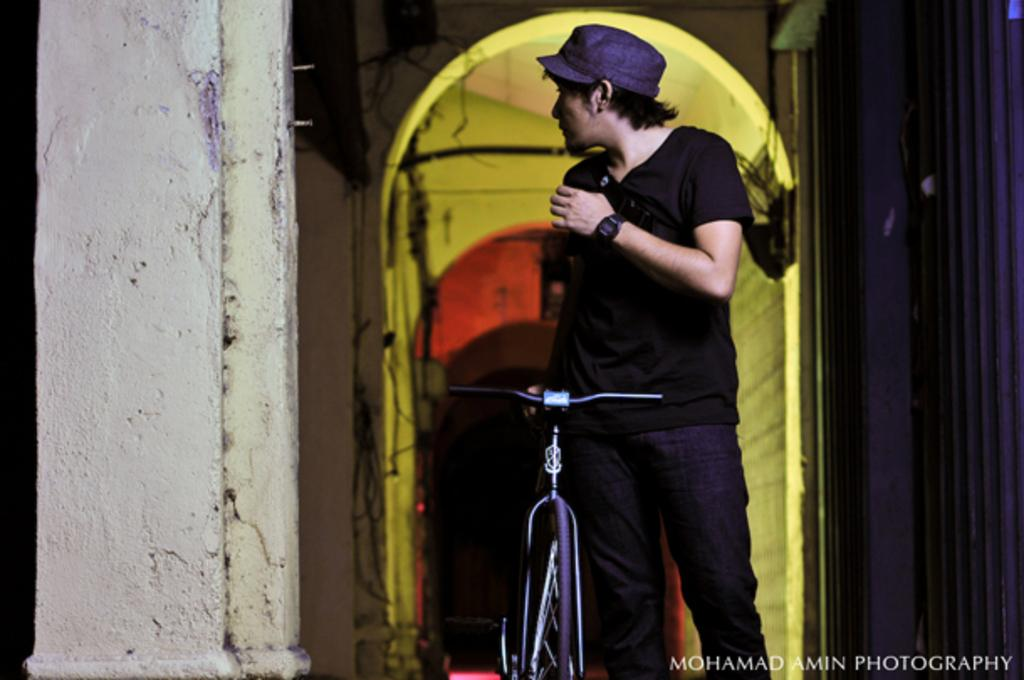Hat: (536, 23, 664, 96)
